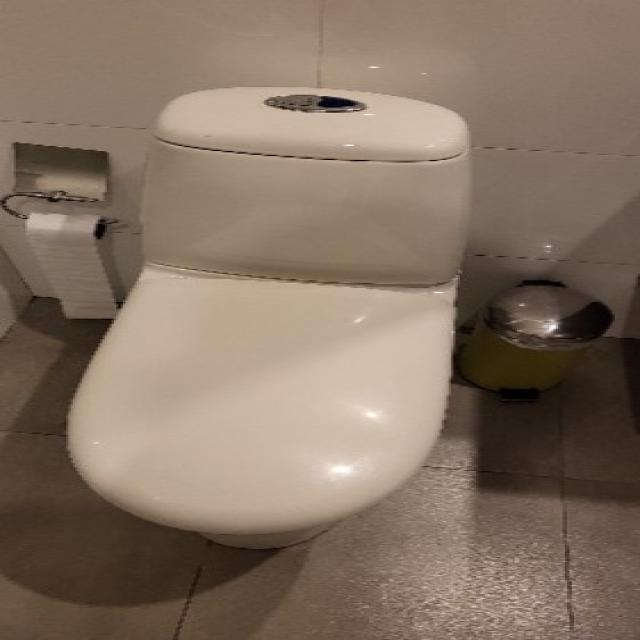toilet: (64, 85, 474, 549)
